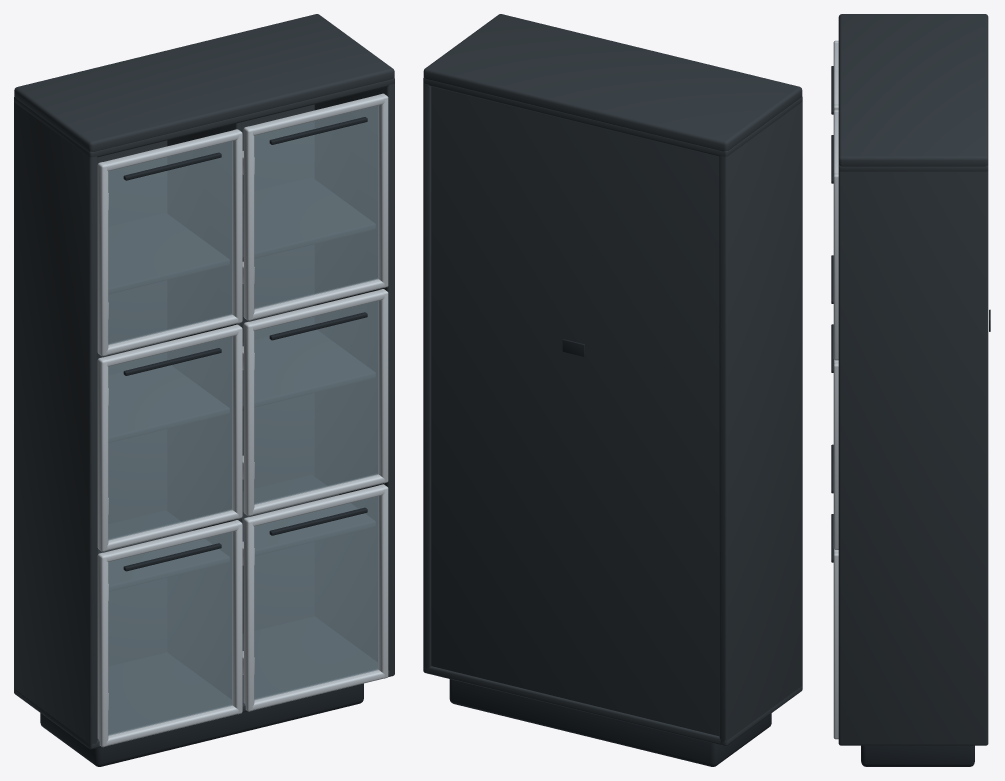
The model's file is glass-display-cabinet.glb.
3 renders of one model, left to right at view 1: azimuth 30°, elevation 25°; view 2: azimuth 150°, elevation 25°; view 3: azimuth 270°, elevation 25°, orthographic. The views are drawn at different scales.
Visible parts, largest first — view 1: catalog_surface_RealismUV, catalog_surface_UVMap; view 2: catalog_surface_RealismUV, catalog_surface_UVMap; view 3: catalog_surface_RealismUV, catalog_surface_UVMap.
Part boxes in pixels (left/top/right/bottom): catalog_surface_RealismUV: left=14, top=14, right=394, bottom=749; catalog_surface_UVMap: left=40, top=105, right=379, bottom=766; catalog_surface_RealismUV: left=423, top=14, right=802, bottom=746; catalog_surface_UVMap: left=449, top=339, right=771, bottom=766; catalog_surface_RealismUV: left=833, top=14, right=988, bottom=745; catalog_surface_UVMap: left=831, top=66, right=990, bottom=766.
Bounding box in the file's own units: 0.9 × 1.8 × 0.42.
